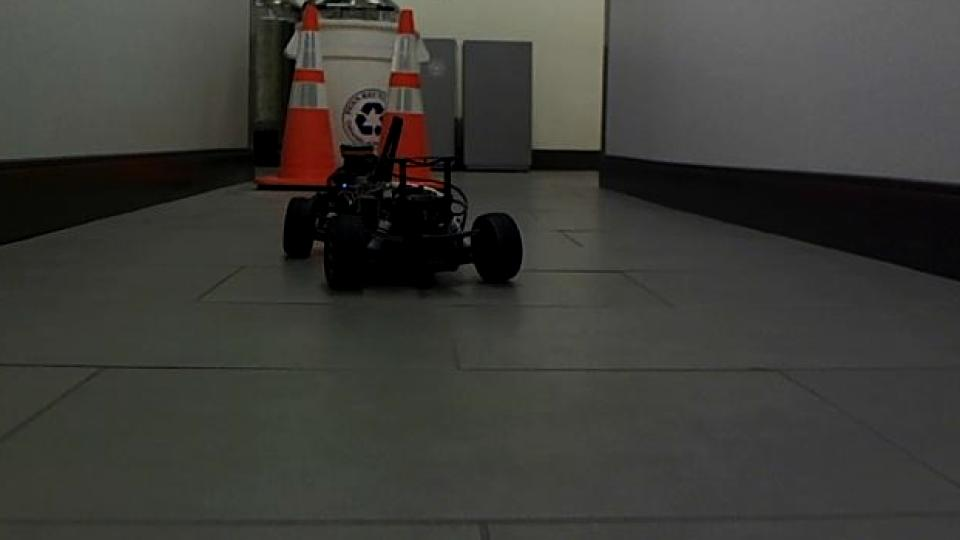car: (278, 113, 525, 293)
